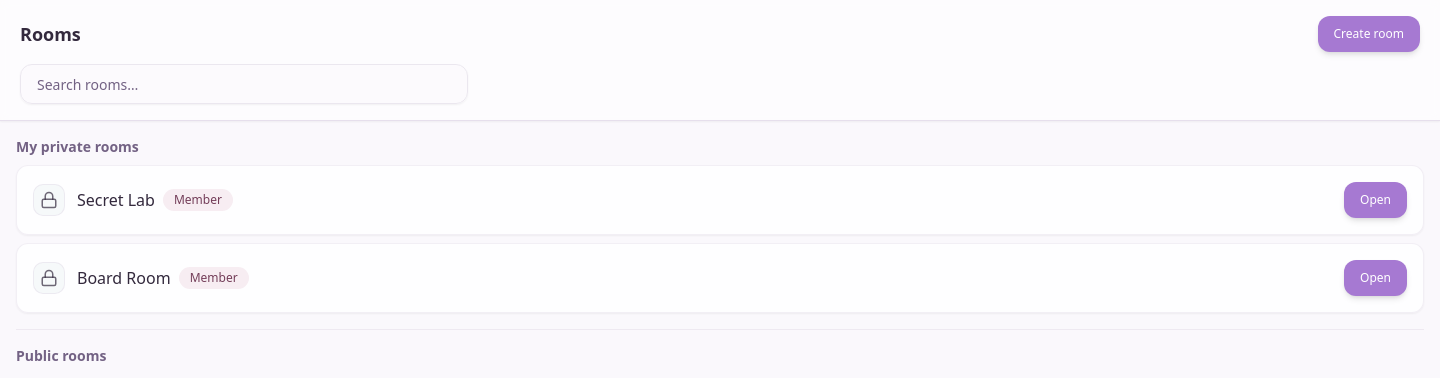
it: <RoomsCatalogPage /> › applies the search term to both private and public sections
Expected: the link with test id "private-room-row-priv-1" is shown, [16,165,1424,235]
Expected: the link with test id "private-room-row-priv-2" is shown, [16,243,1424,313]
Step 1. Type "board" into the field with placeholder "Search rooms…" → [244, 84], box [20,64,468,104]
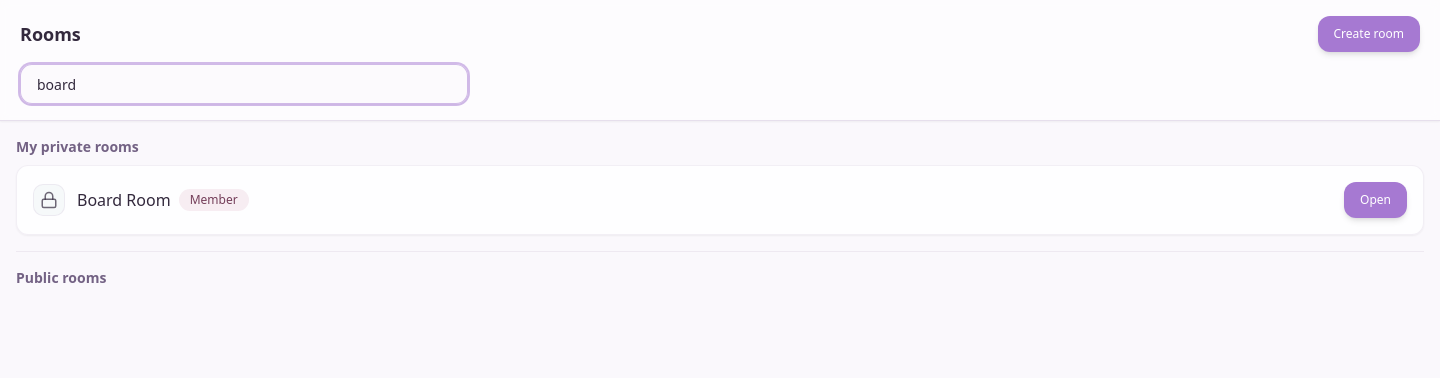
Expected: the link with test id "private-room-row-priv-2" is shown, [16,165,1424,235]
Expected: the link with test id "private-room-row-priv-1" is gone
